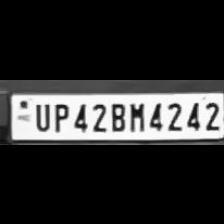2: (163, 98, 181, 130), (202, 98, 220, 130), (88, 99, 106, 130)
4: (70, 99, 89, 130), (182, 97, 200, 128), (146, 98, 162, 130)
B: (108, 99, 126, 131)
M: (126, 99, 146, 131)
P: (50, 99, 68, 130)
U: (31, 98, 51, 130)
